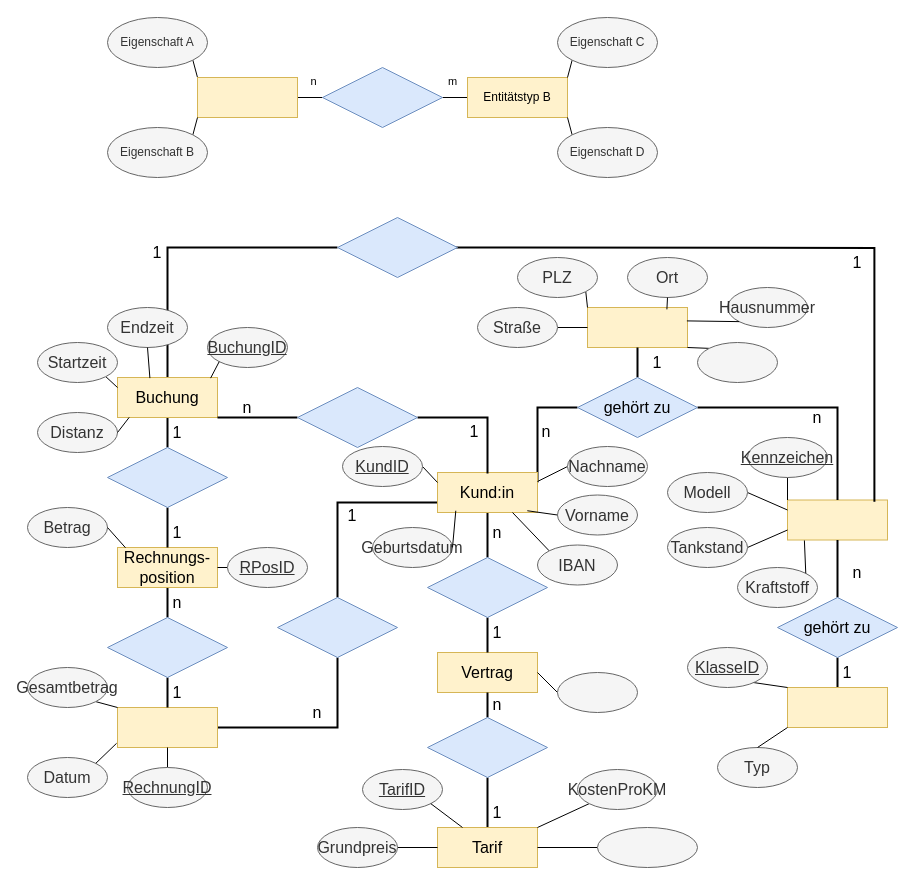
The diagram is 915 pixels wide and 885 high, and some of its shapes have lost their labels. The shapes that lost their labels are listed below. From the top down, each one's centre as x and y in pixels, then its label:
At (x=247, y=97): "Entitätstyp A".
At (x=382, y=97): "Beziehungstyp".
At (x=397, y=247): "mietet".
At (x=637, y=327): "Adresse".
At (x=737, y=362): "AdressID".
At (x=357, y=417): "führt aus".
At (x=167, y=477): "erstellt".
At (x=837, y=519): "Fahrzeug".
At (x=487, y=587): "besitzt".
At (x=167, y=647): "wird abgerechnet in".
At (x=337, y=627): "erhält".
At (x=597, y=692): "VertragID".
At (x=837, y=707): "Fahrzeugklasse".
At (x=167, y=727): "Rechnung".
At (x=487, y=747): "nutzt".
At (x=647, y=847): "KostenProStd".
